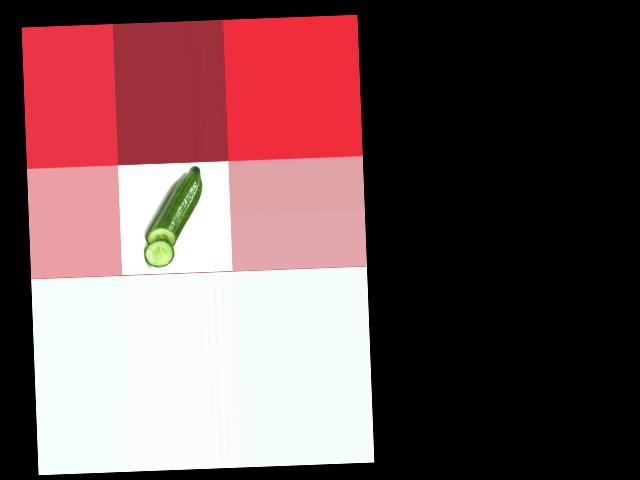cucumber: (143, 166, 204, 248)
